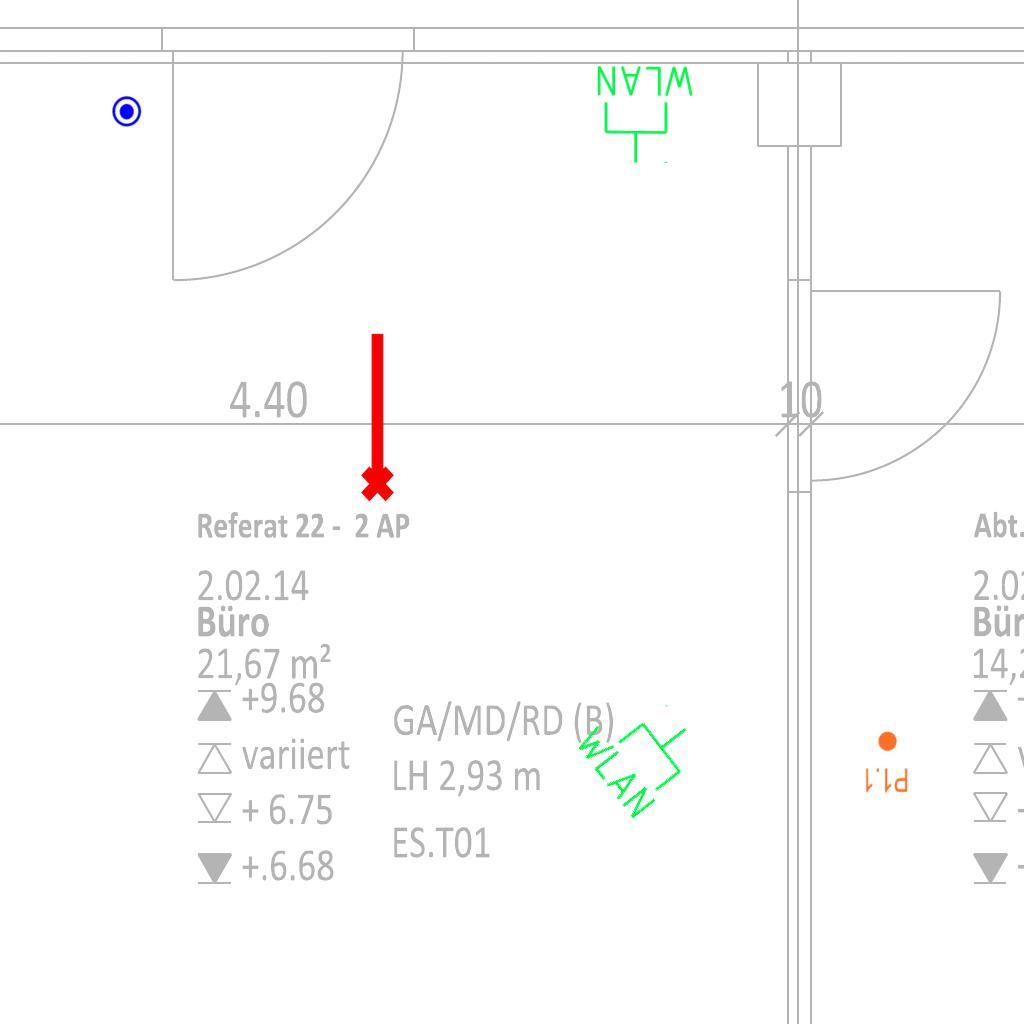ASR_Ansaugoeffnung: (352, 328, 398, 504)
Downlight_LED_Einbauleuchten_Flur_2: (863, 730, 909, 794)
Taster: (109, 95, 142, 128)
WLAN: (567, 678, 715, 825), (593, 62, 698, 166)
